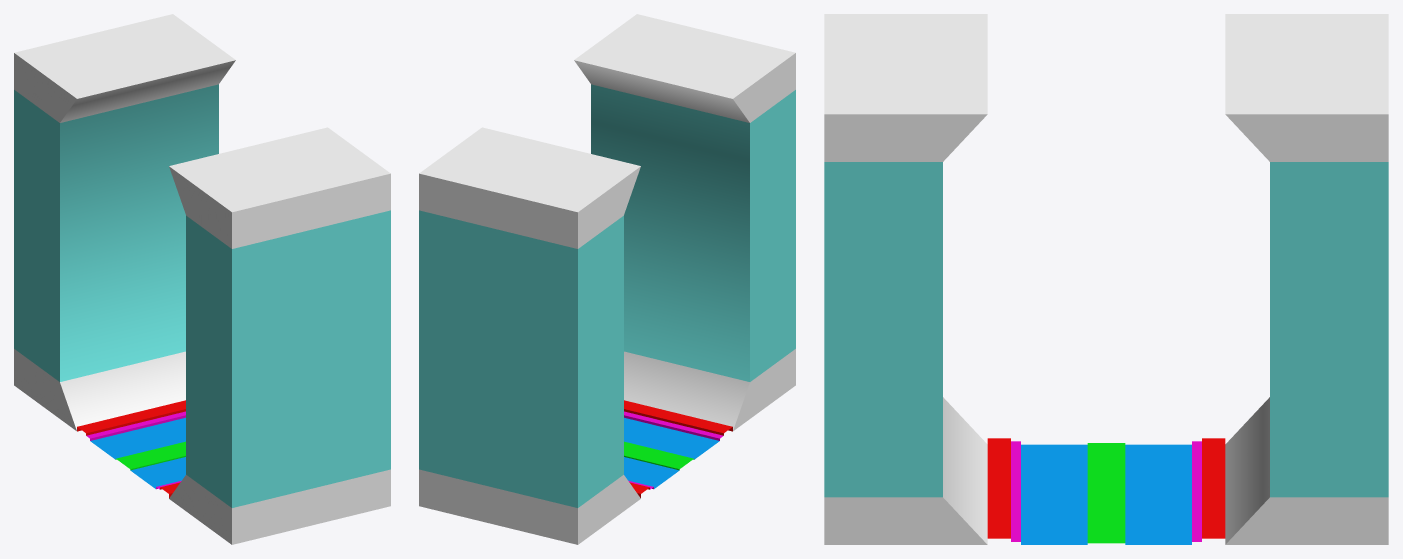
The model's file is Props.fbx.
3 renders of one model, left to right at view 1: azimuth 30°, elevation 25°; view 2: azimuth 150°, elevation 25°; view 3: azimuth 270°, elevation 25°, orthographic. The views are drawn at different scales.
Visible parts, largest first — view 1: Base003, Base004, Base001; view 2: Base004, Base003, Base001; view 3: Base003, Base004, Base001.
Part boxes in pixels (<box>): Base003: <box>169,127,390,544</box>; Base004: <box>14,14,235,430</box>; Base001: <box>77,400,185,497</box>; Base004: <box>419,127,640,544</box>; Base003: <box>574,14,795,430</box>; Base001: <box>624,400,732,497</box>; Base003: <box>824,14,987,544</box>; Base004: <box>1225,14,1388,544</box>; Base001: <box>987,438,1225,544</box>.
Size of the model in its own units: 78.74 by 157 by 187.
